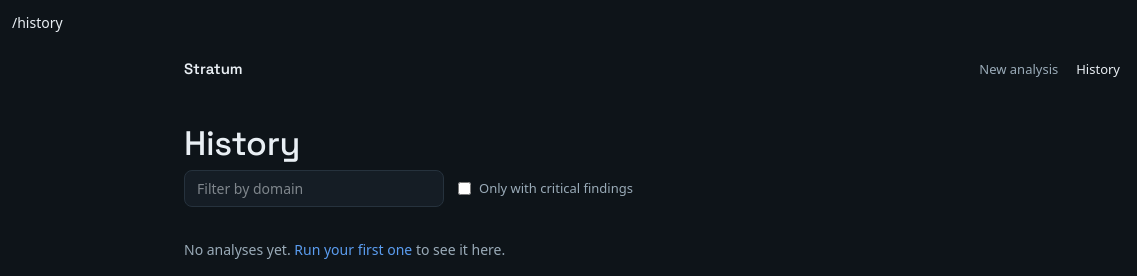
domain + has-critical filters combine and the URL reflects them
The image size is (1137, 276).
Step 1. Type "shop" into the search field labelled "Filter by domain" → (314, 189), box [184,170,444,207]
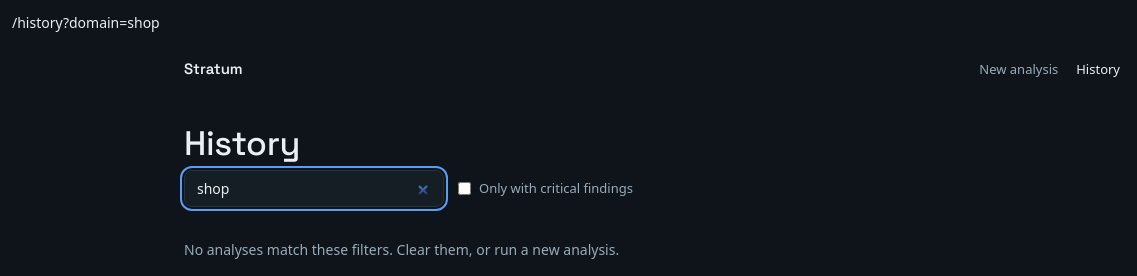
Step 2. Click the checkbox labelled "Only with critical findings" → (464, 189), box [458,182,471,195]
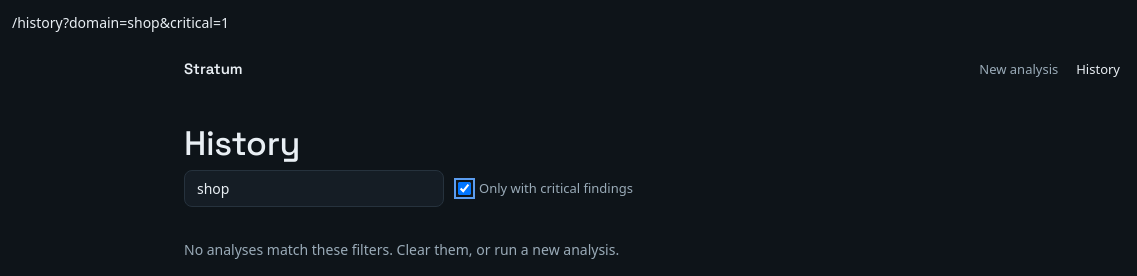
Expected: the text with test id "loc" shows "domain=shop", [12,13,229,32]
Expected: the text with test id "loc" shows "critical=1", [12,13,229,32]
